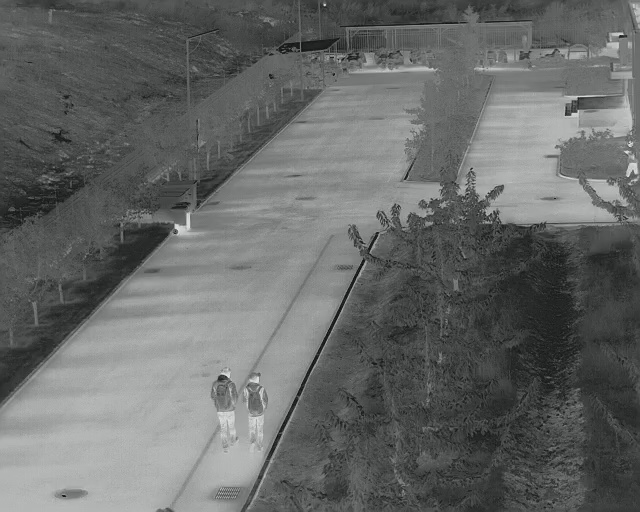person: (208, 365, 241, 455), (244, 369, 270, 450)
